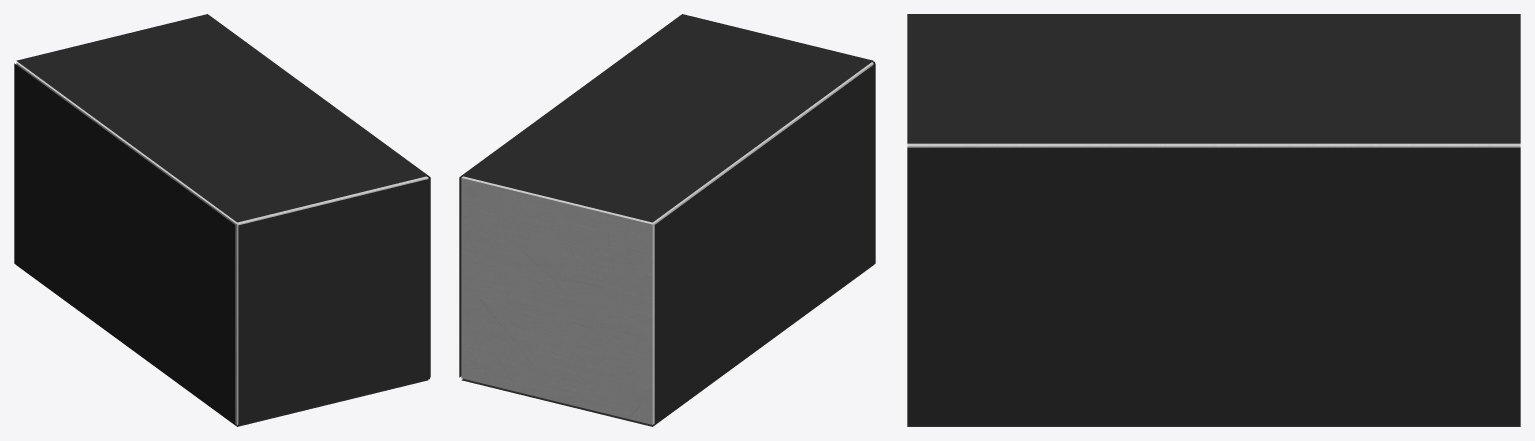
Rendered from blackbox.obj.
The picture shows the model from 3 angles, left to right: view 1: azimuth 30°, elevation 25°; view 2: azimuth 150°, elevation 25°; view 3: azimuth 270°, elevation 25°; orthographic projection. The views are drawn at different scales.
Parts seen in each view (by area): view 1: Blackbox3, Blackbox2, Blackbox4, Blackbox1; view 2: Blackbox3, Blackbox2, Blackbox1, Blackbox5, Blackbox6; view 3: Blackbox5, Blackbox2, Blackbox1, Blackbox6.
Boxes of the visible parts, x1,y1,x2,y2 form: Blackbox3: (14, 63, 235, 424); Blackbox2: (16, 14, 428, 222); Blackbox4: (238, 178, 429, 425); Blackbox1: (16, 62, 428, 424); Blackbox3: (654, 63, 875, 424); Blackbox2: (461, 14, 873, 222); Blackbox1: (461, 62, 873, 424); Blackbox5: (459, 176, 462, 377); Blackbox6: (461, 268, 869, 426); Blackbox5: (907, 147, 1520, 425); Blackbox2: (907, 14, 1520, 143); Blackbox1: (907, 143, 1520, 147); Blackbox6: (907, 425, 1520, 426).
Bounding box in the file's own units: 2.04 × 2.04 × 4.02.
2 materials, 2 textured.
